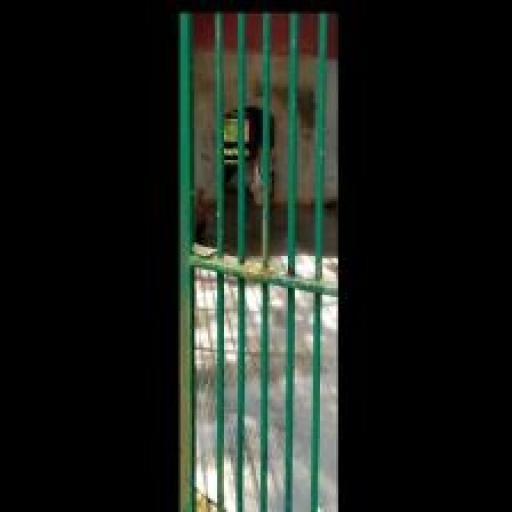Tiger: (222, 140, 280, 220)
